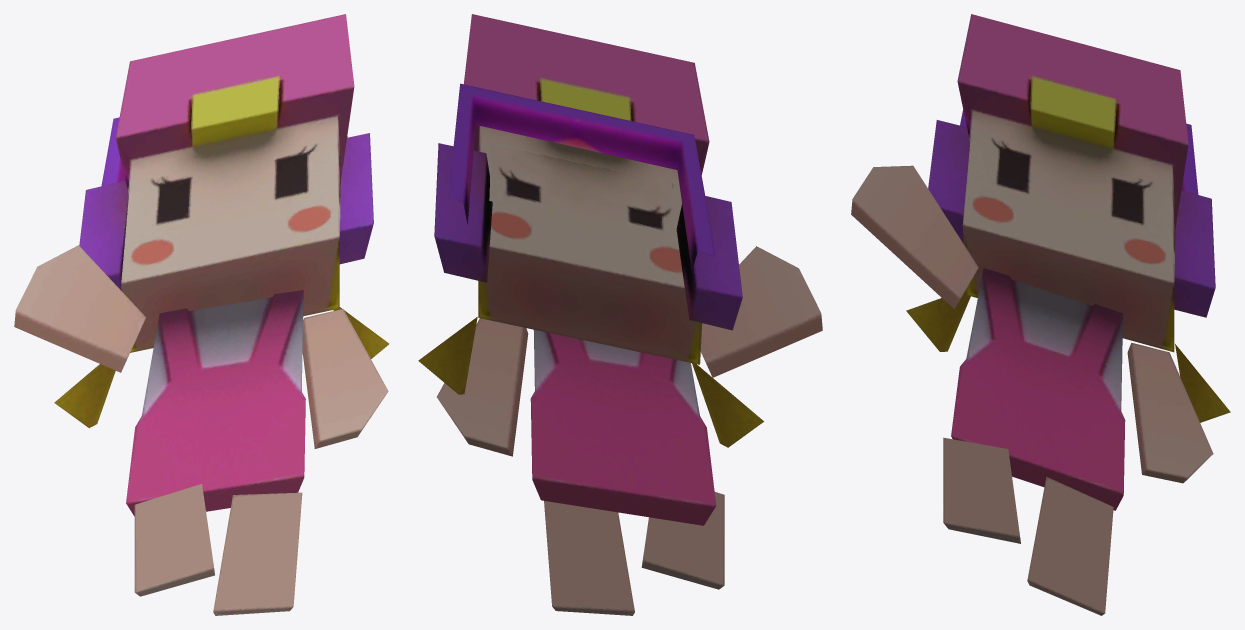
Rendered from rwjm_g.glb.
3 views of the same model, side by side, from view 1: azimuth 30°, elevation 25°; view 2: azimuth 150°, elevation 25°; view 3: azimuth 330°, elevation 25° (orthographic). The views are drawn at different scales.
Visible parts, largest first — view 1: model; view 2: model; view 3: model.
Part boxes in pixels (x1,y1,x2,y2): model: (14, 14, 389, 615); model: (418, 14, 822, 615); model: (851, 14, 1230, 615).
Size of the model in its own units: 4.1 by 5.89 by 0.4688.
Materials: 1 (1 with a texture image).
